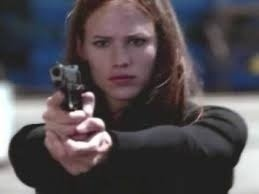pistol: (47, 63, 99, 109)
